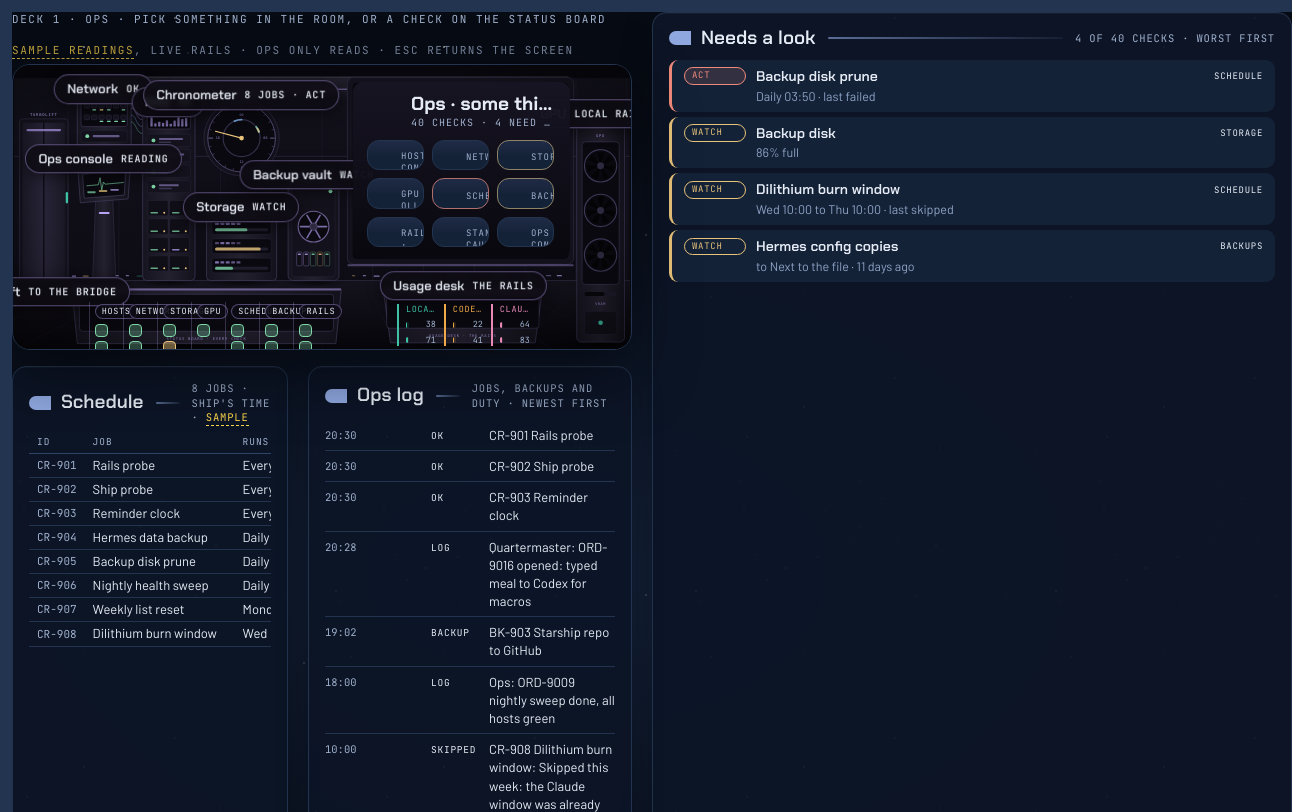
it: ops board › needs a look lists the failed job first, then the warnings, and opens their area
The width and height of the screenshot is (1292, 812).
Step 1. Click the button with class "look-row" that starts with "ACT" → point(715, 76), box [669,60,1275,112]
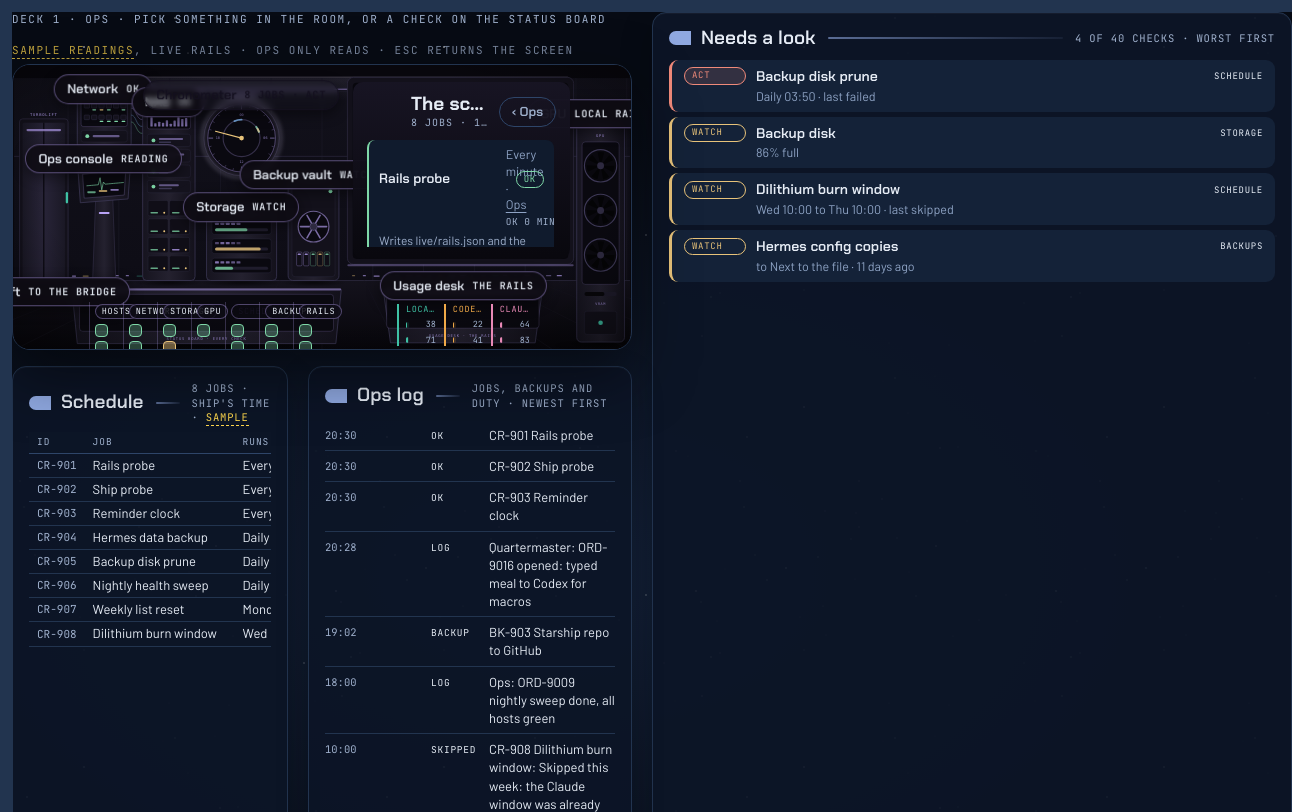
Check: the text with class "con-title" reads "The schedule", box [411,90,531,116]
